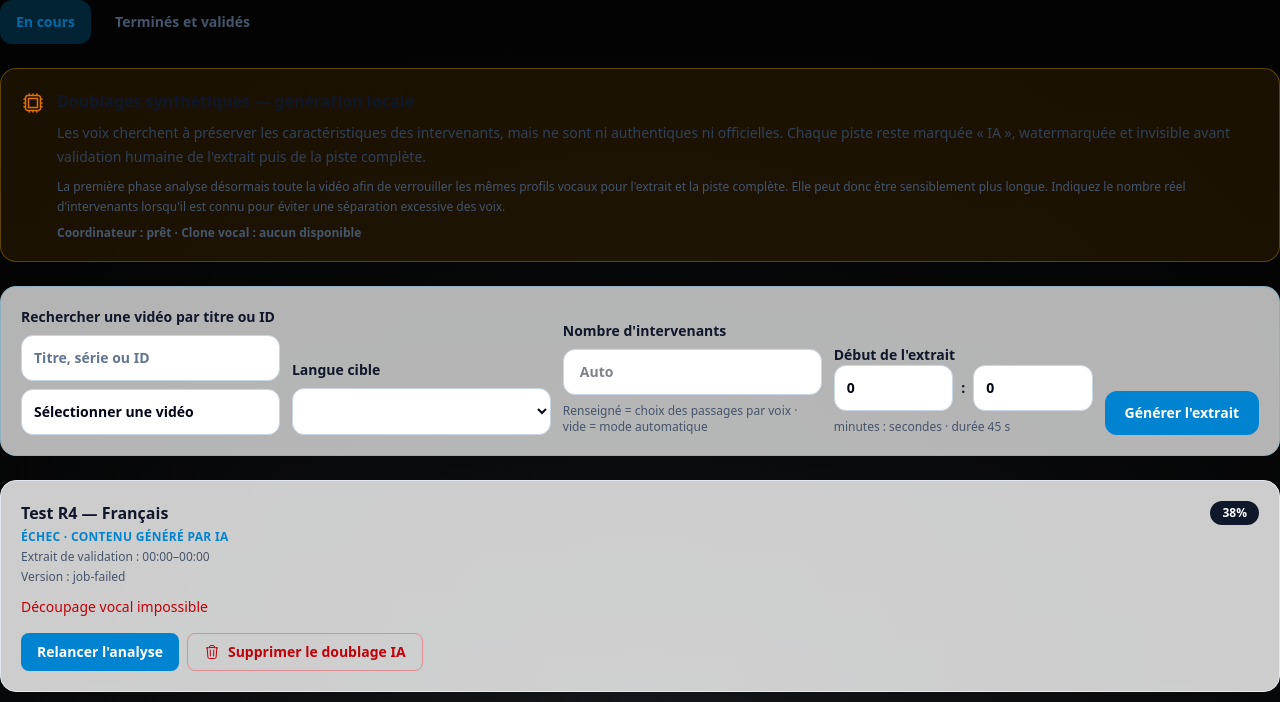
Test: propose une relance manuelle complète pour un doublage en échec
Step 1. Click the button "Relancer l'analyse" → (100,652), box x1=21 y1=633 x2=179 y2=671
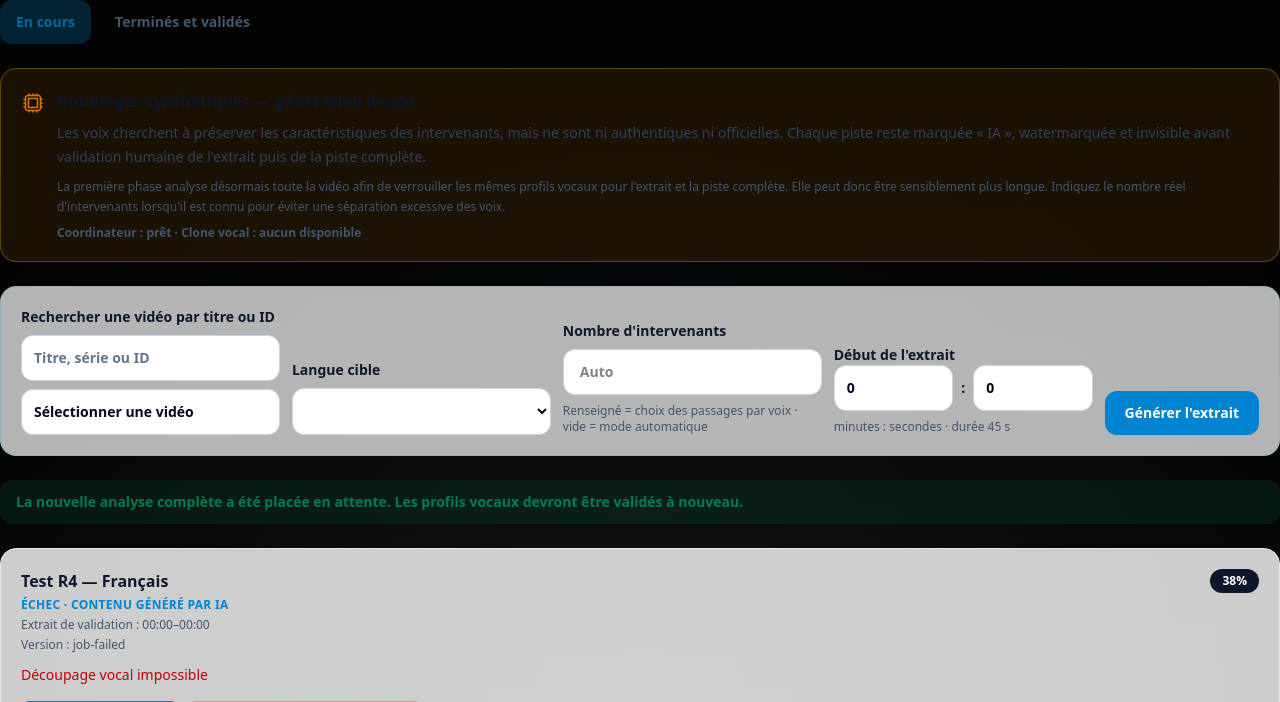
expect the message shows "profils vocaux devront être validés": met, box x1=16 y1=492 x2=743 y2=511
